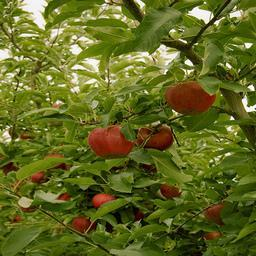apple: (164, 81, 216, 114), (86, 124, 134, 158), (137, 124, 173, 151), (205, 201, 230, 223), (91, 193, 115, 209), (73, 217, 97, 231), (159, 183, 180, 198)
